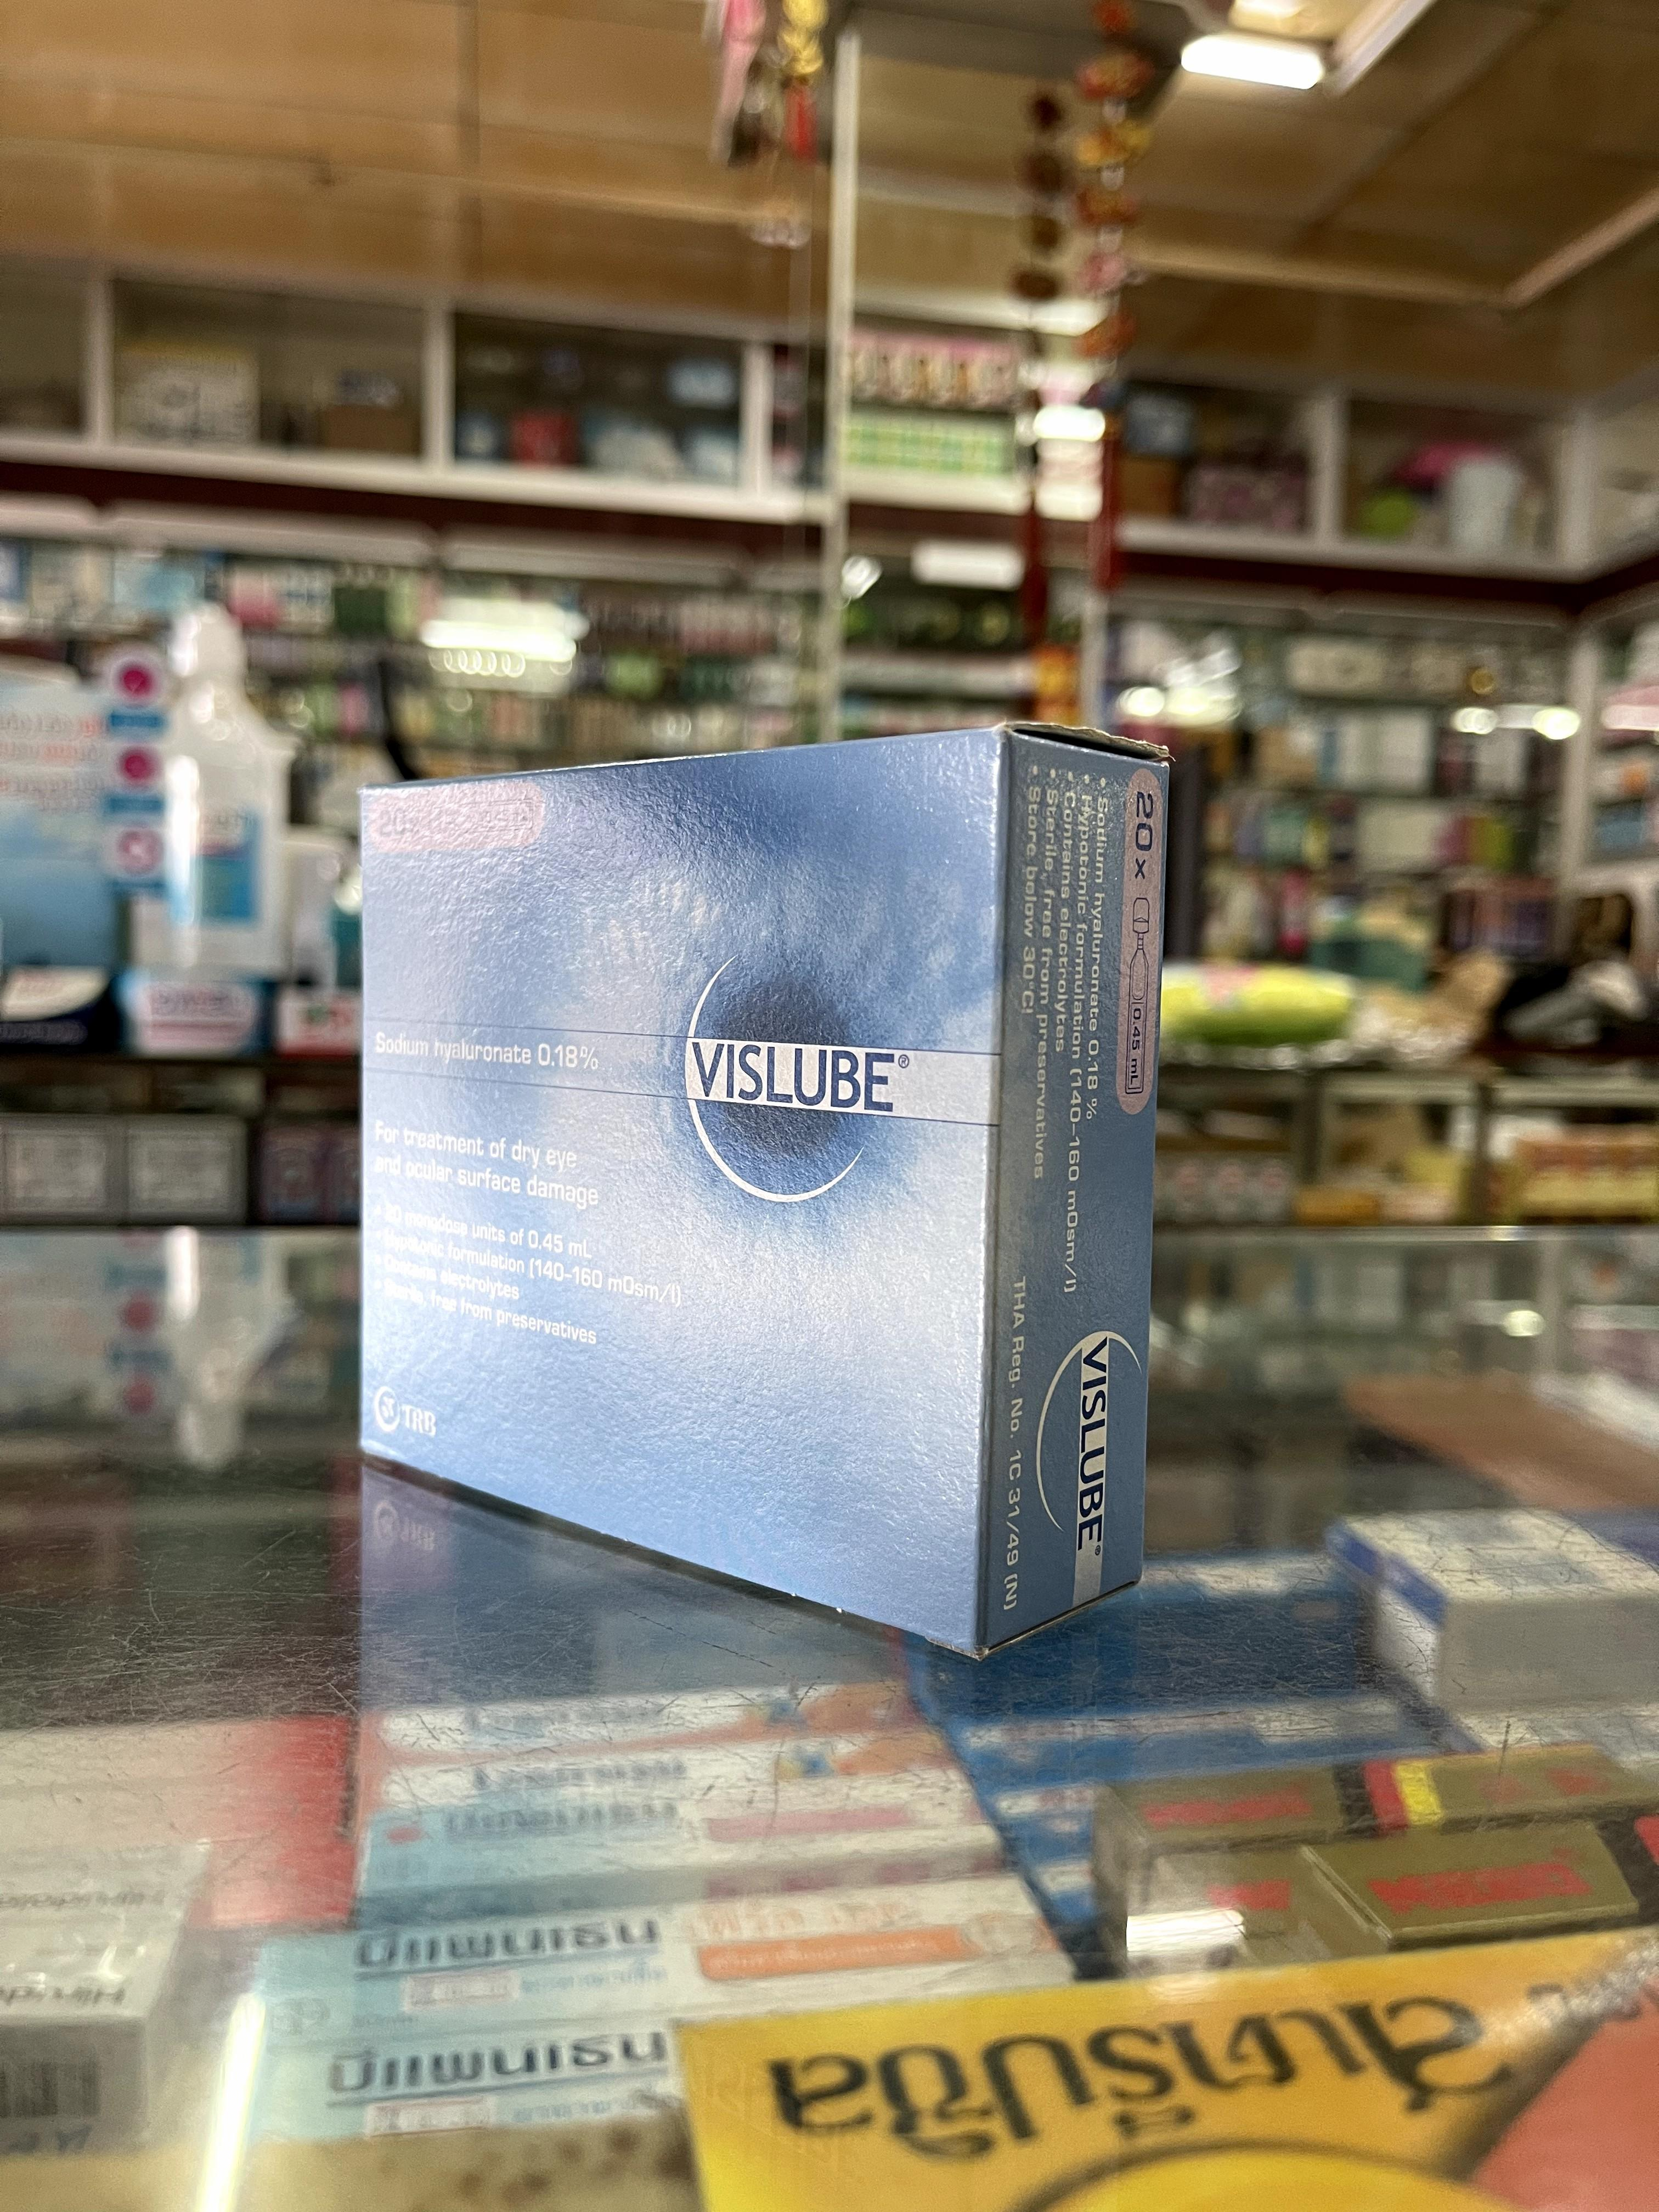Vislube20: (362, 735, 1171, 1656)
